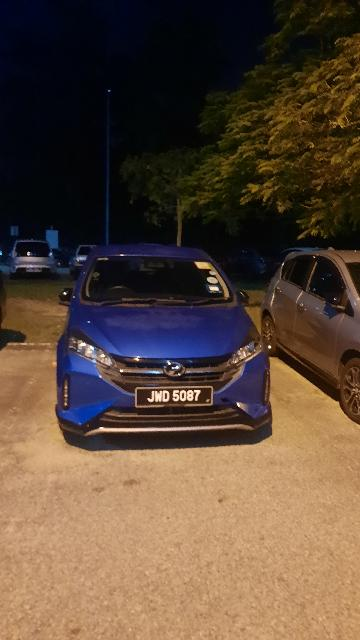License_Plate: (131, 381, 218, 409)
car: (58, 242, 277, 451)
